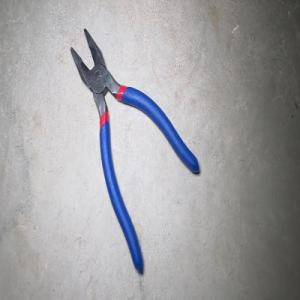Pliers: (69, 27, 200, 275)
